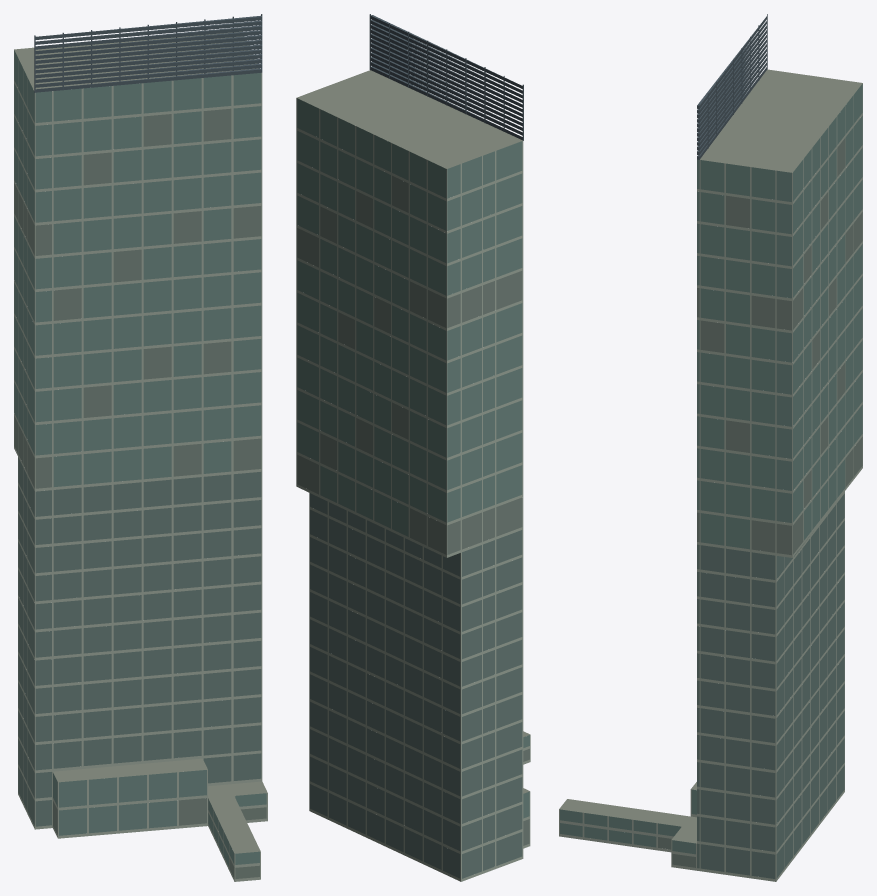
The model's file is beetham-tower-manchester-far.glb.
3 views of the same model, side by side, from view 1: azimuth 30°, elevation 25°; view 2: azimuth 150°, elevation 25°; view 3: azimuth 270°, elevation 25° (orthographic). The views are drawn at different scales.
Parts seen in each view (by area): view 1: beetham-tower-manchester-0-glass, beetham-tower-manchester-0-hotel, beetham-tower-manchester-0-frame, beetham-tower-manchester-0-opaque, beetham-tower-manchester-0-steel, beetham-tower-manchester-0-roof; view 2: beetham-tower-manchester-0-glass, beetham-tower-manchester-0-hotel, beetham-tower-manchester-0-frame, beetham-tower-manchester-0-opaque, beetham-tower-manchester-0-roof, beetham-tower-manchester-0-steel; view 3: beetham-tower-manchester-0-glass, beetham-tower-manchester-0-hotel, beetham-tower-manchester-0-frame, beetham-tower-manchester-0-roof, beetham-tower-manchester-0-opaque, beetham-tower-manchester-0-steel.
Part boxes in pixels (x1,y1,x2,y2): beetham-tower-manchester-0-glass: [14, 50, 266, 866]; beetham-tower-manchester-0-hotel: [18, 457, 261, 826]; beetham-tower-manchester-0-frame: [14, 50, 267, 881]; beetham-tower-manchester-0-opaque: [14, 108, 266, 878]; beetham-tower-manchester-0-steel: [34, 14, 262, 92]; beetham-tower-manchester-0-roof: [14, 31, 267, 853]; beetham-tower-manchester-0-glass: [297, 98, 529, 818]; beetham-tower-manchester-0-hotel: [310, 493, 522, 878]; beetham-tower-manchester-0-frame: [296, 98, 530, 881]; beetham-tower-manchester-0-opaque: [297, 175, 529, 845]; beetham-tower-manchester-0-roof: [296, 70, 529, 793]; beetham-tower-manchester-0-steel: [369, 14, 523, 140]; beetham-tower-manchester-0-glass: [560, 84, 862, 854]; beetham-tower-manchester-0-hotel: [697, 494, 844, 878]; beetham-tower-manchester-0-frame: [559, 83, 862, 881]; beetham-tower-manchester-0-roof: [559, 69, 862, 843]; beetham-tower-manchester-0-opaque: [658, 138, 862, 867]; beetham-tower-manchester-0-steel: [697, 14, 767, 159].
Size of the model in its own units: 49.06 by 169 by 60.79.
